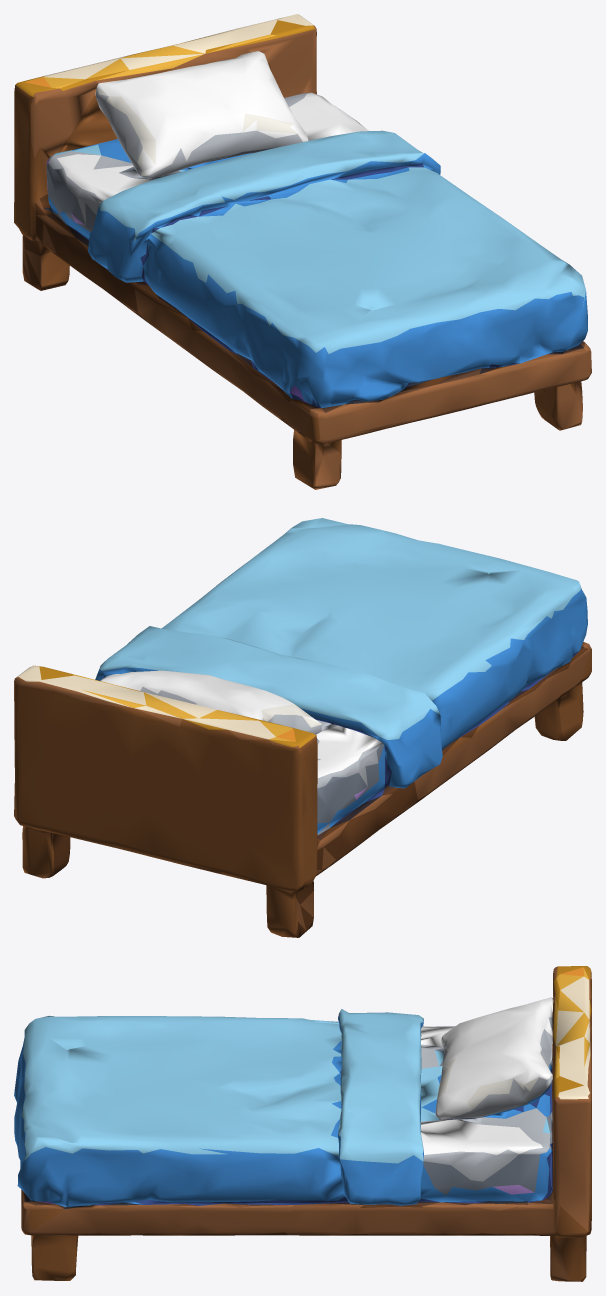
The model's file is SM_bed_single_blue.fbx.
The picture shows the model from 3 angles, top to bottom: view 1: azimuth 30°, elevation 25°; view 2: azimuth 150°, elevation 25°; view 3: azimuth 270°, elevation 25°; orthographic projection. The views are drawn at different scales.
Visible parts, largest first — view 1: SM_bed_single_blue; view 2: SM_bed_single_blue; view 3: SM_bed_single_blue.
Boxes of the visible parts, <box> form: SM_bed_single_blue: <box>14,14,591,489</box>; SM_bed_single_blue: <box>14,518,591,937</box>; SM_bed_single_blue: <box>14,966,591,1281</box>.
Bounding box in the file's own units: 93.73 × 55 × 152.
Materials: 1 (1 with a texture image).
